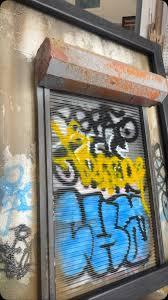graffiti: (51, 100, 151, 270), (1, 153, 30, 288), (148, 144, 168, 236)
